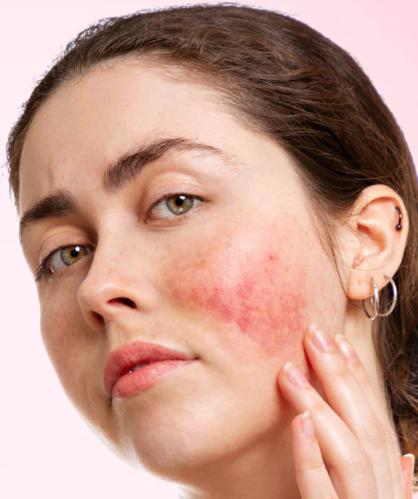Skin-Redness: (156, 231, 317, 368)
